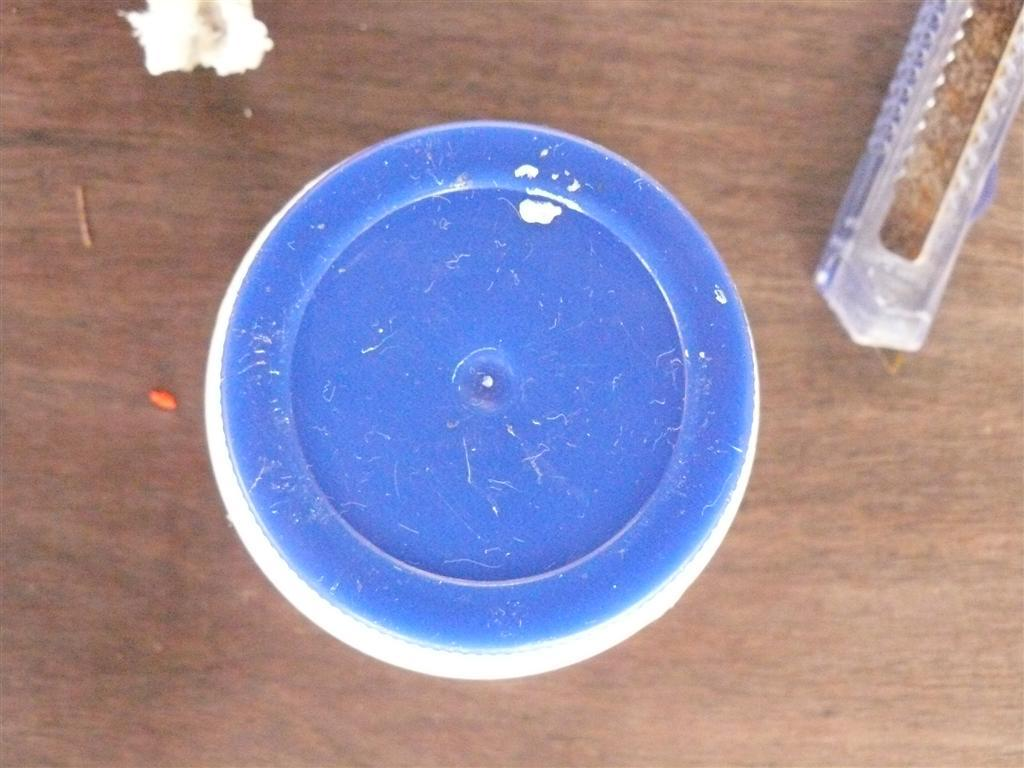plate: (199, 121, 760, 679)
